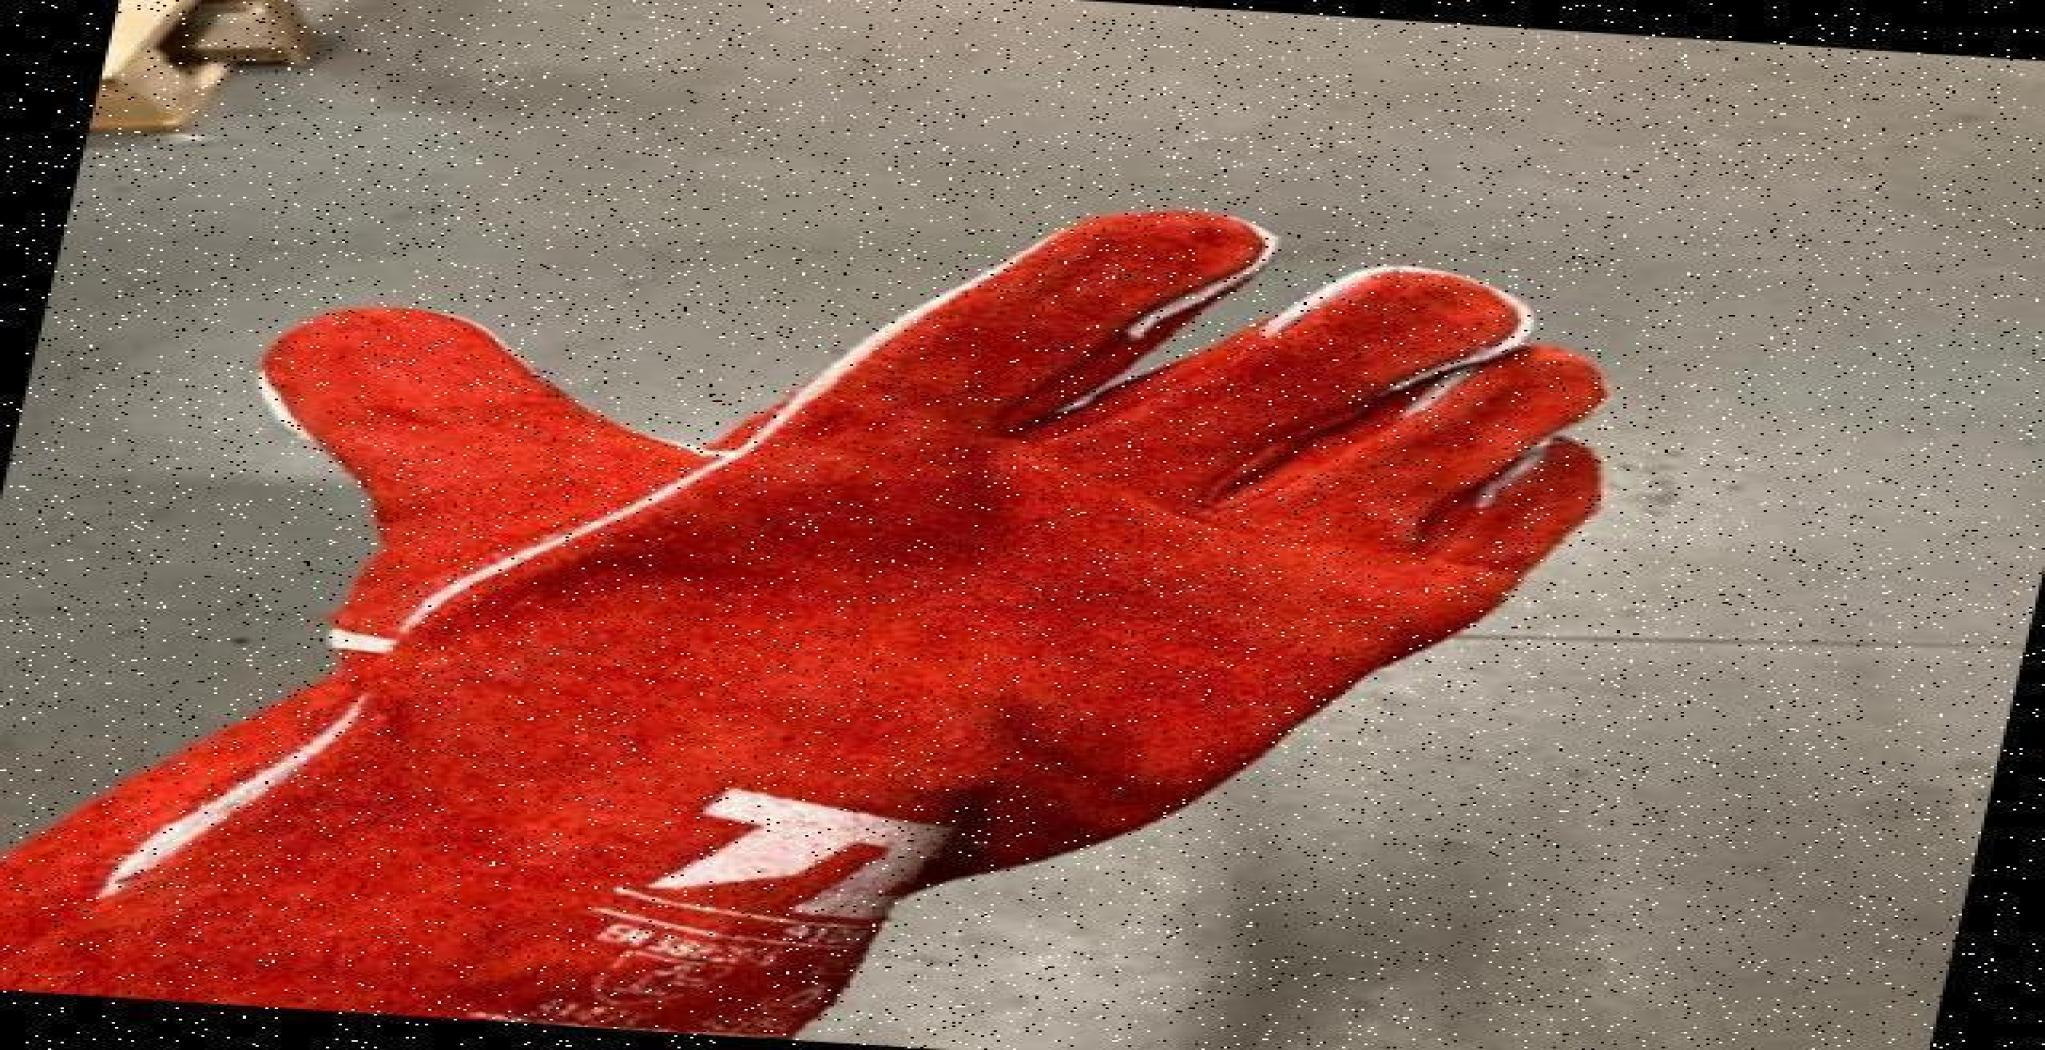gloved: (0, 206, 1610, 1041)
